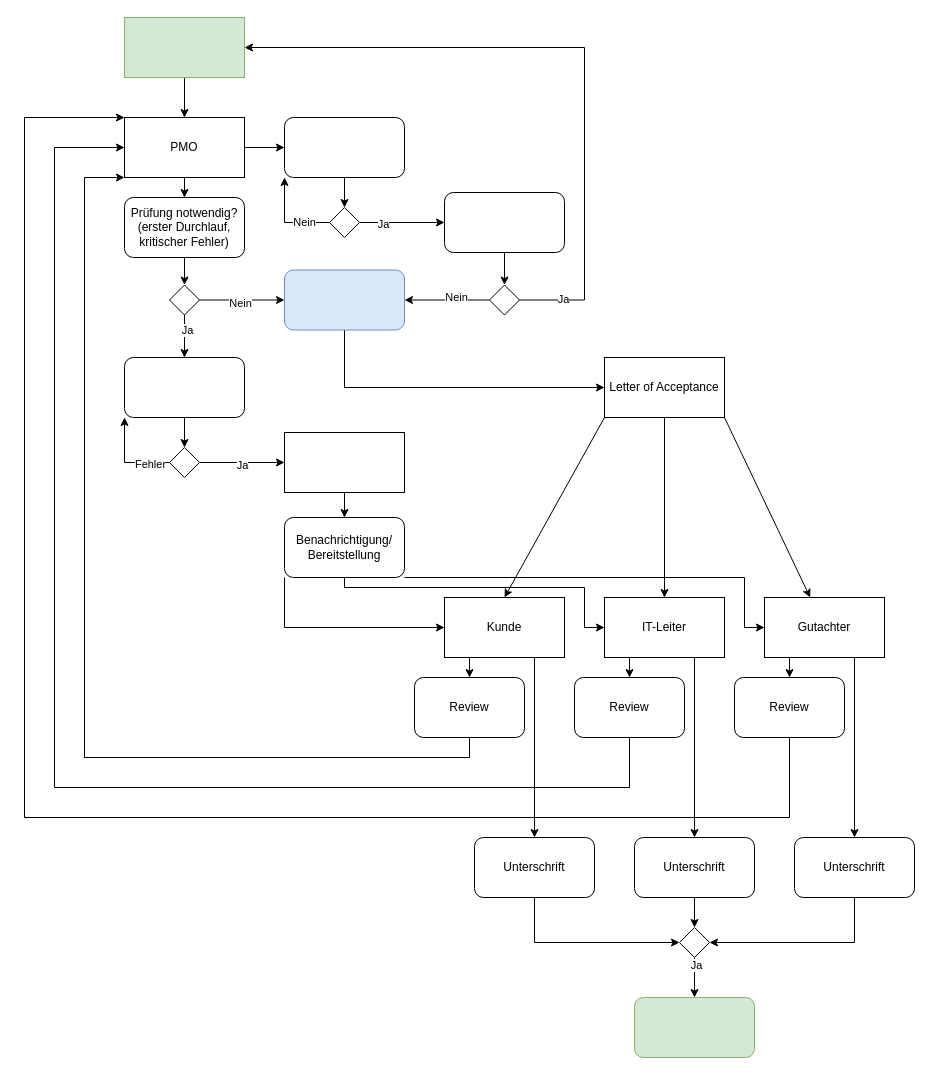
Some shapes in this 932 by 1075 pixel diagram are drawn without their labels. The centre of each missing label's shape, as x and y in pixels:
"ABNAHME" goes at (344,299).
"Alle Reviews erhalten?" goes at (344,147).
"Aufarbeitung" goes at (184,387).
"Fehler?" goes at (504,222).
"Implementierung" goes at (694,1027).
"Projekt-Sharepoint" goes at (344,462).
"Software-Architekt" goes at (184,47).
